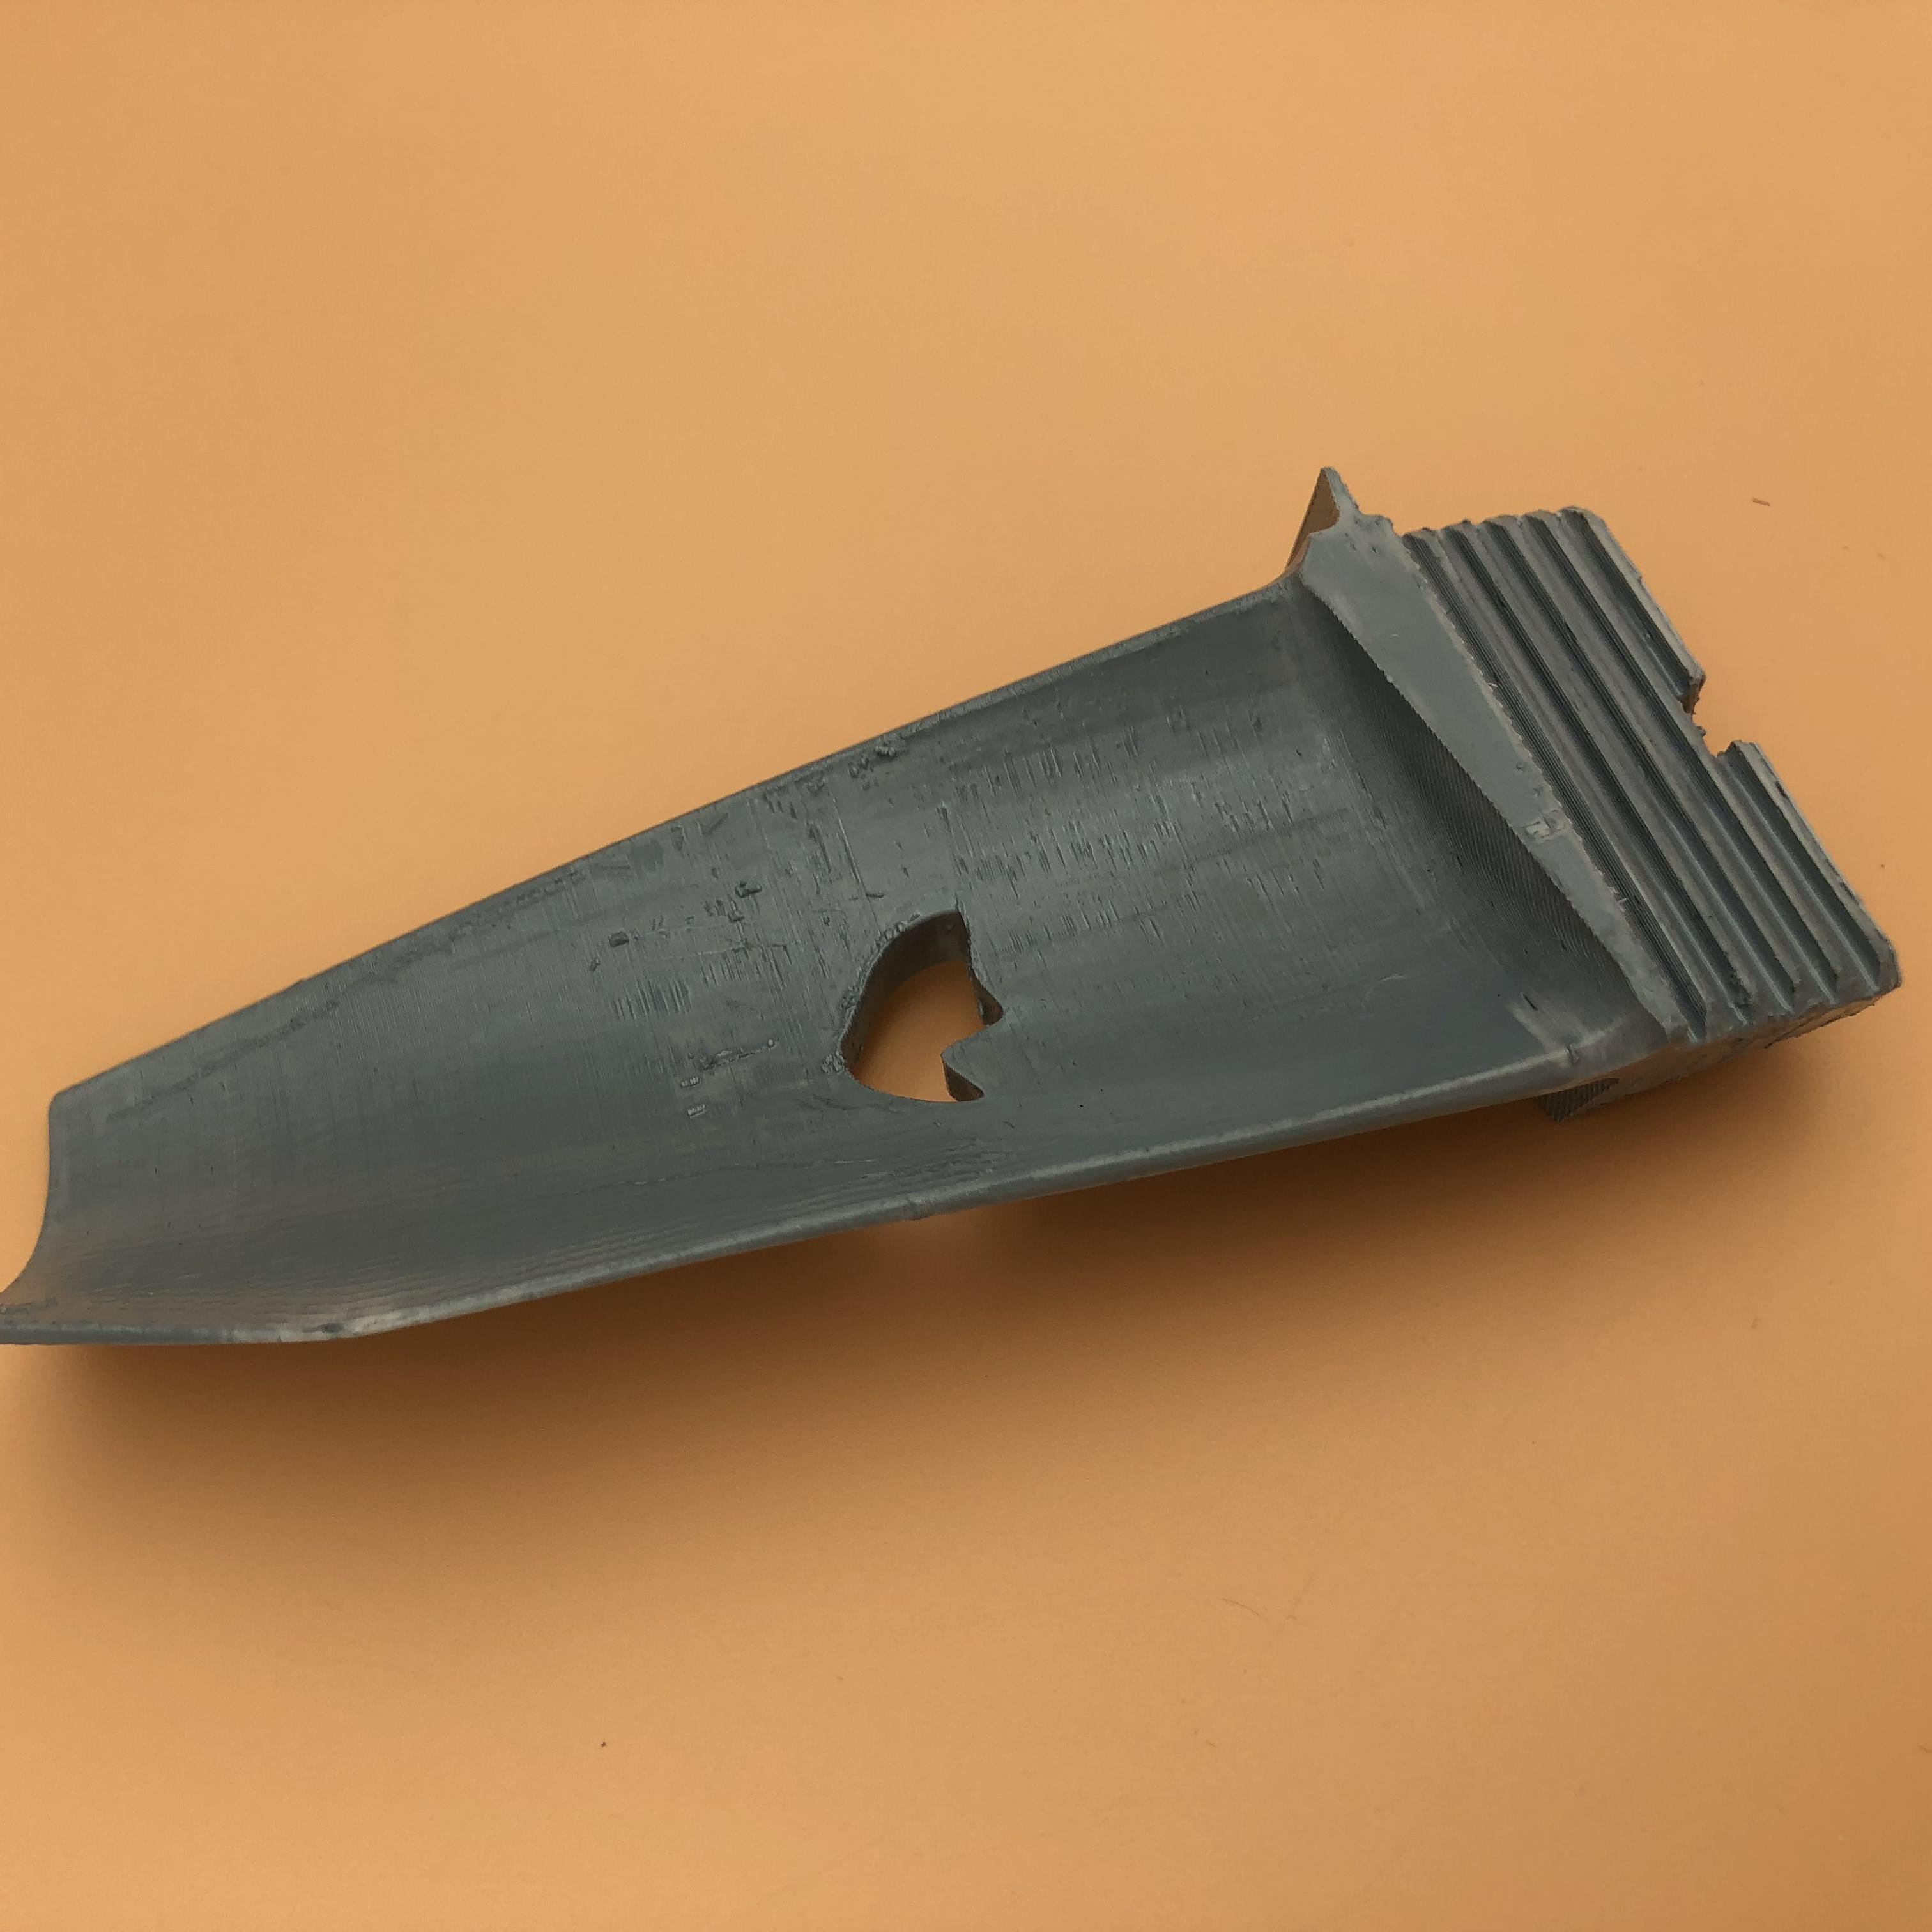breakdown: (835, 911, 1012, 1115)
